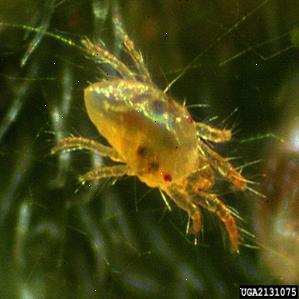spider mite: (36, 13, 260, 263)
